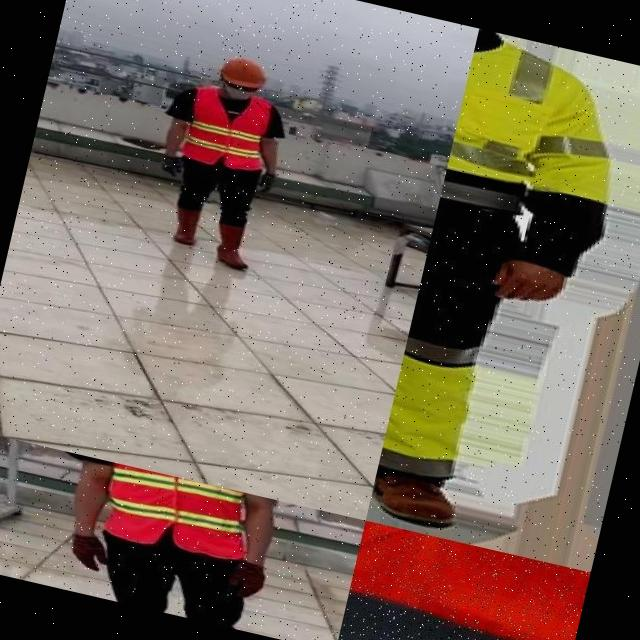boots: (366, 424, 488, 542), (209, 219, 256, 270), (165, 203, 203, 247)
helmet: (215, 52, 270, 92)
vest: (443, 28, 640, 220), (335, 520, 590, 640), (83, 458, 257, 564), (177, 82, 275, 176)
